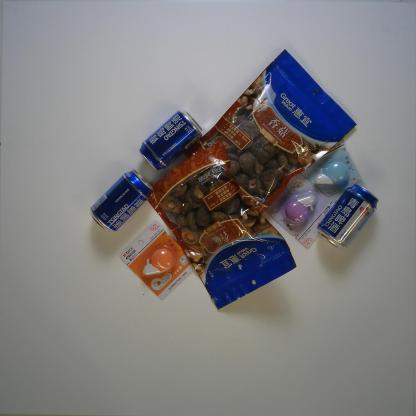Alcohol: (315, 183, 380, 252), (137, 108, 205, 172), (89, 168, 155, 233)
Dried Food: (180, 46, 361, 218), (146, 140, 297, 312)
Stationery: (120, 219, 196, 302), (264, 171, 337, 249), (299, 137, 365, 204)
